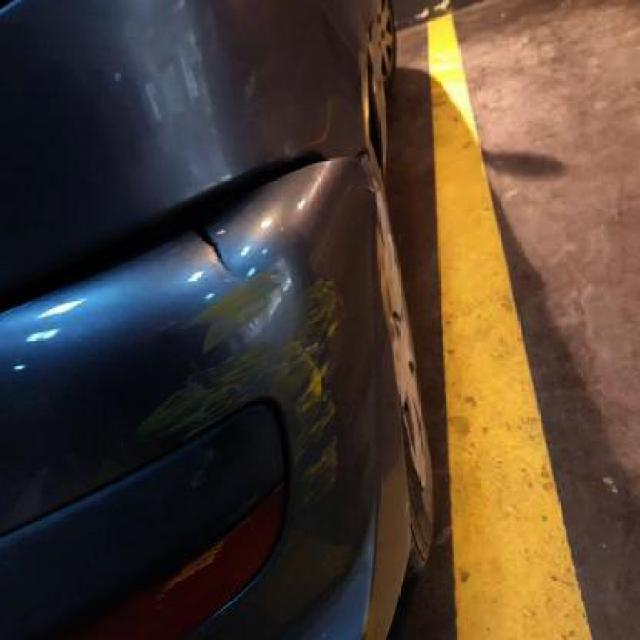car damage: (117, 317, 243, 444), (196, 248, 297, 348), (183, 215, 230, 287)
